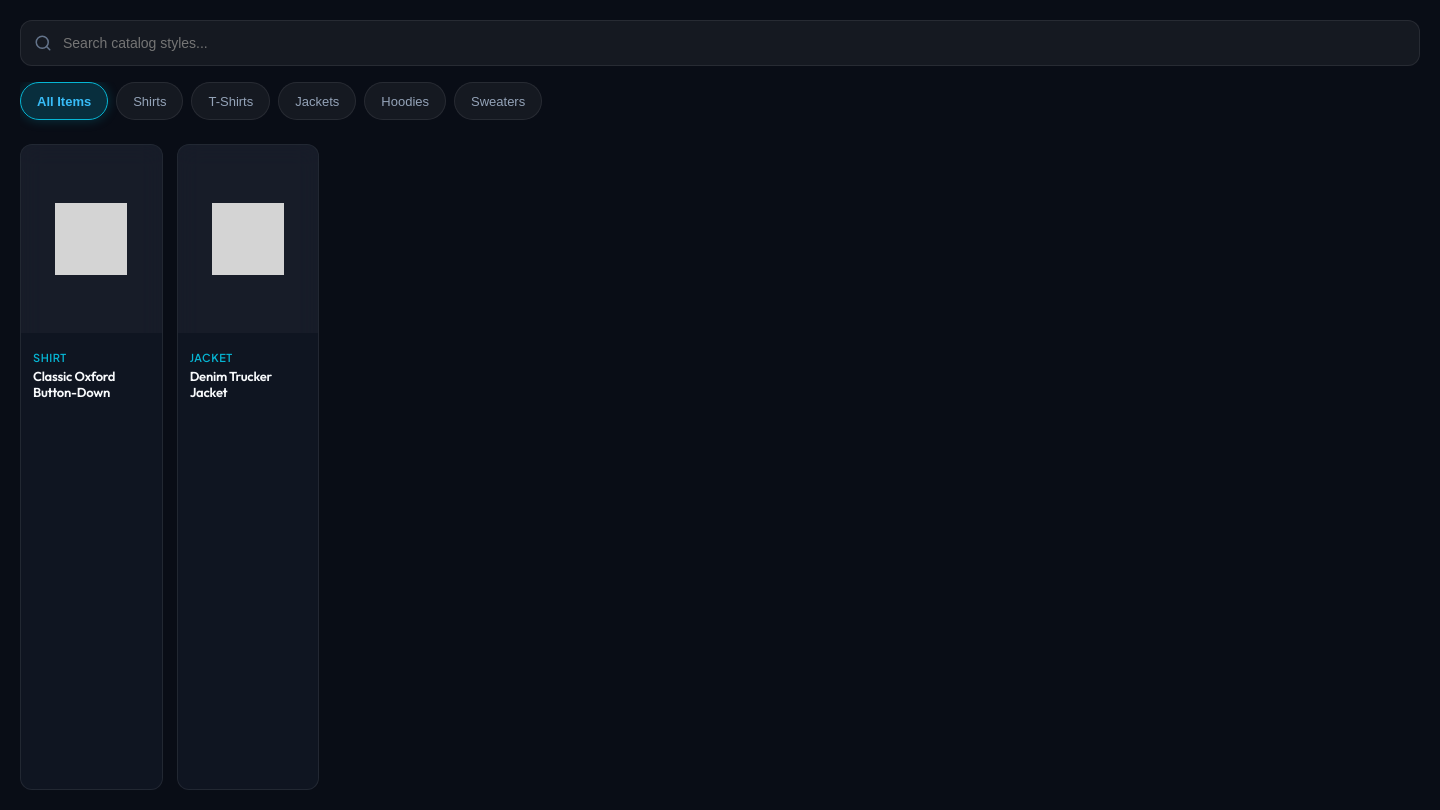
Test: CatalogDrawer Component › filters garments by search query
Type "Oxford" into the field with placeholder "Search catalog styles..." at (720, 43), box [20, 20, 1420, 66]
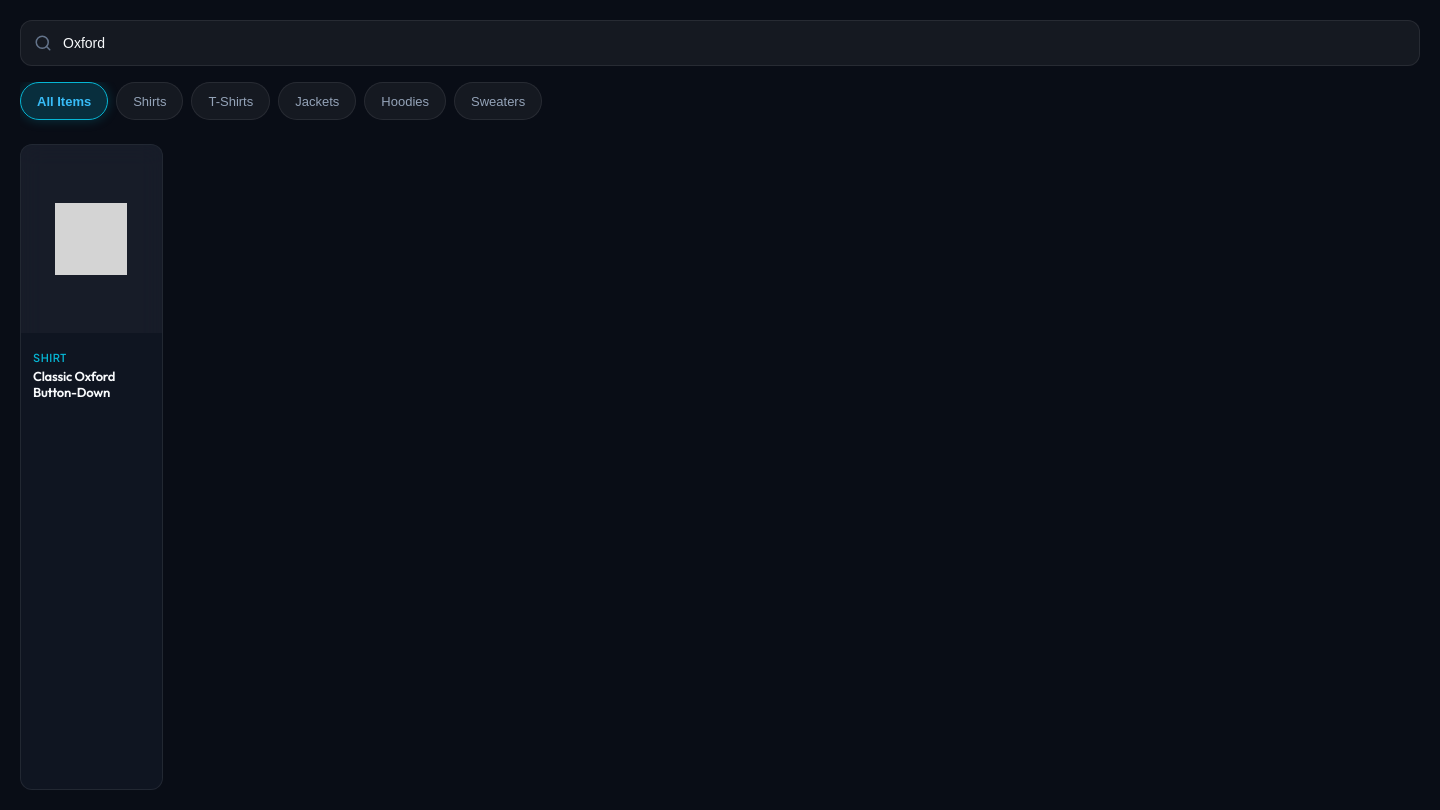
expect the heading "Classic Oxford Button-Down" is shown: met, box [33, 368, 115, 400]
expect the heading "Denim Trucker Jacket" is gone: met
